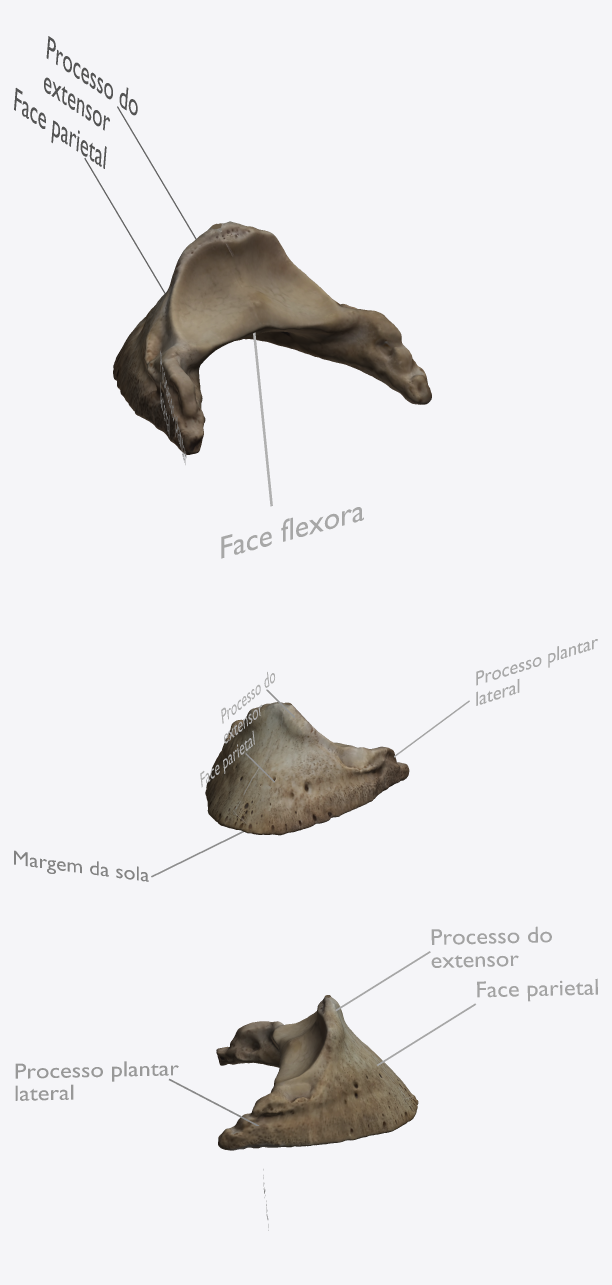
Rendered from Falange_distal_membro_pélvico.glb.
3 renders of one model, top to bottom at view 1: azimuth 30°, elevation 25°; view 2: azimuth 150°, elevation 25°; view 3: azimuth 270°, elevation 25°, orthographic. The views are drawn at different scales.
Visible parts, largest first — view 1: 3DModel.001, Texto.009, Texto.003, Texto.019; view 2: 3DModel.001, Texto.001, Texto.031, Texto.009; view 3: 3DModel.001, Texto.005, Texto.006, Texto.018.
Part boxes in pixels (bbox=[...]): 3DModel.001: bbox=[113, 221, 431, 454]; Texto.009: bbox=[44, 36, 137, 130]; Texto.003: bbox=[221, 507, 363, 558]; Texto.019: bbox=[14, 88, 106, 168]; 3DModel.001: bbox=[205, 702, 409, 835]; Texto.001: bbox=[476, 639, 597, 705]; Texto.031: bbox=[14, 850, 148, 881]; Texto.009: bbox=[221, 672, 274, 743]; 3DModel.001: bbox=[216, 995, 418, 1150]; Texto.005: bbox=[15, 1061, 178, 1100]; Texto.006: bbox=[431, 926, 551, 967]; Texto.018: bbox=[477, 978, 597, 1001].
Bounding box in the file's own units: 2.03 × 1.32 × 2.6.
Materials: 1 (1 with a texture image).
